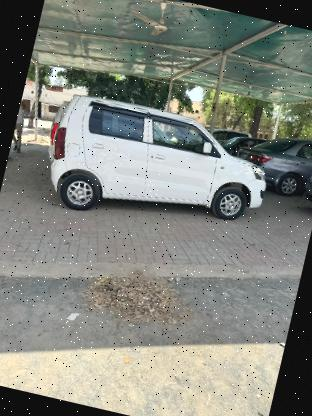car: (36, 78, 286, 256)
